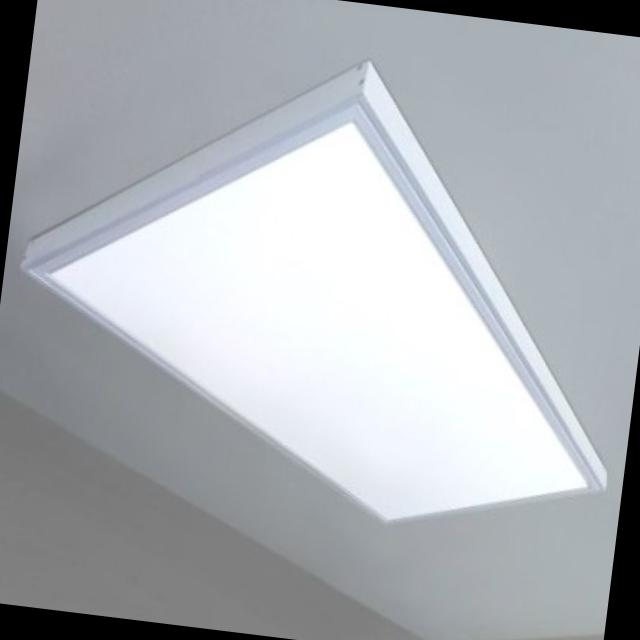light: (20, 58, 608, 524)
